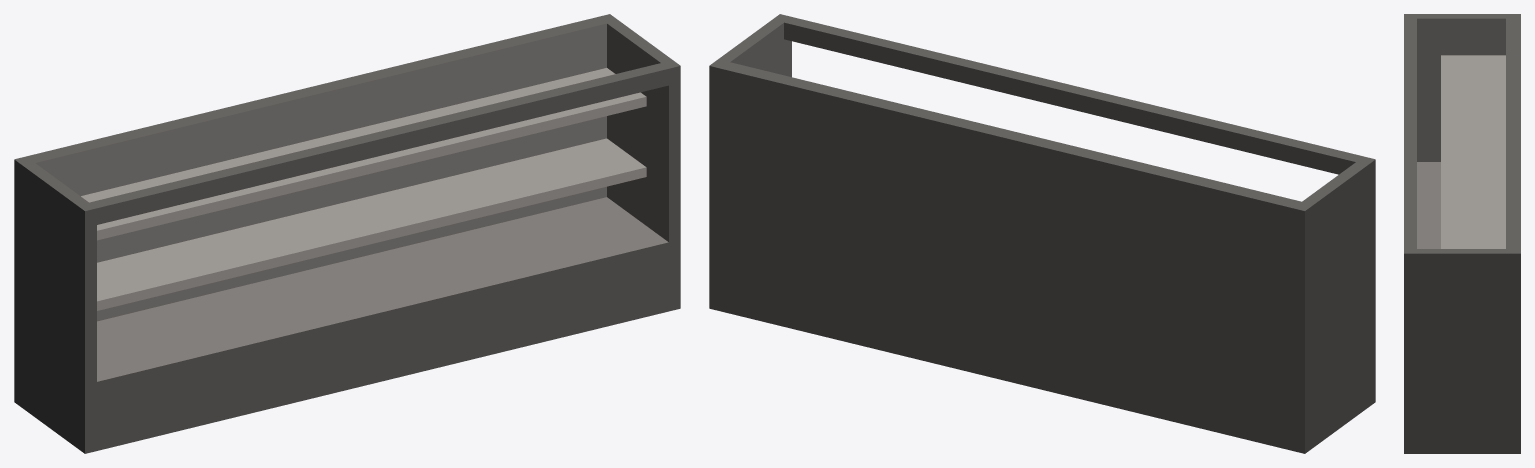
File: AI_Prop_Guns_Cabinet_Empty_01.fbx
3 renders of one model, left to right at view 1: azimuth 30°, elevation 25°; view 2: azimuth 150°, elevation 25°; view 3: azimuth 270°, elevation 25°, orthographic. The views are drawn at different scales.
Visible parts, largest first — view 1: AI_Prop_Guns_Cabinet_Empty_01; view 2: AI_Prop_Guns_Cabinet_Empty_01; view 3: AI_Prop_Guns_Cabinet_Empty_01.
Boxes of the visible parts, left/top/right/bottom form: AI_Prop_Guns_Cabinet_Empty_01: left=14, top=14, right=680, bottom=453; AI_Prop_Guns_Cabinet_Empty_01: left=709, top=14, right=1375, bottom=453; AI_Prop_Guns_Cabinet_Empty_01: left=1404, top=14, right=1520, bottom=453.
Size of the model in its own units: 4.85 by 1.89 by 0.9983.
